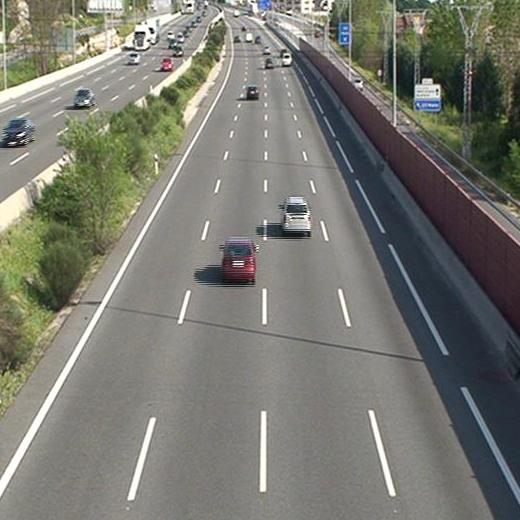car: (224, 239, 255, 280), (280, 198, 311, 231), (247, 86, 258, 99), (265, 58, 274, 67)
van: (281, 53, 292, 66)
